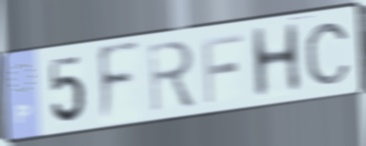5: (47, 52, 88, 126)
C: (302, 20, 354, 88)
F: (96, 38, 143, 129), (199, 30, 246, 106)
H: (247, 19, 305, 103)
R: (145, 37, 198, 116)
